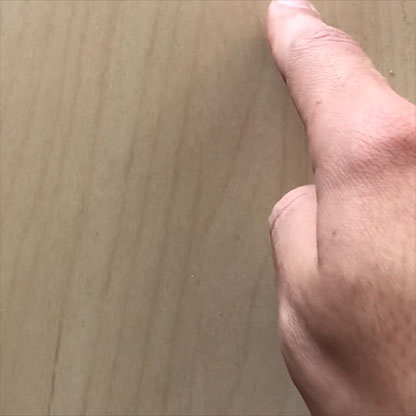fingertip: (255, 1, 335, 16)
